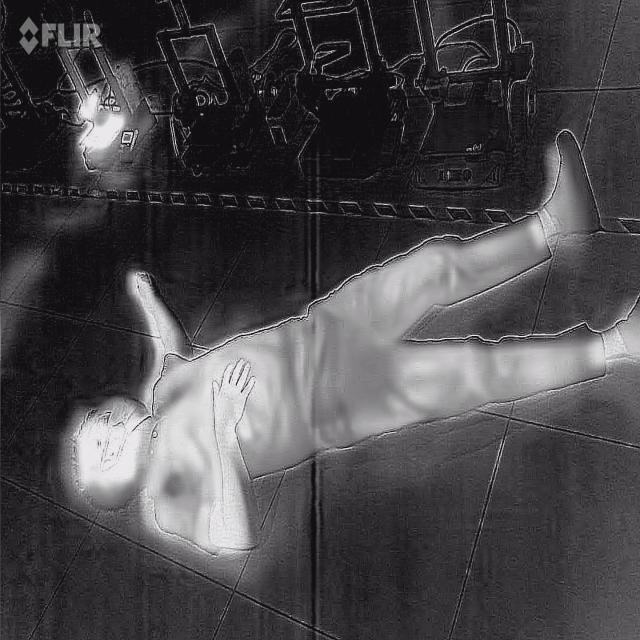Victim: (56, 123, 638, 558)
